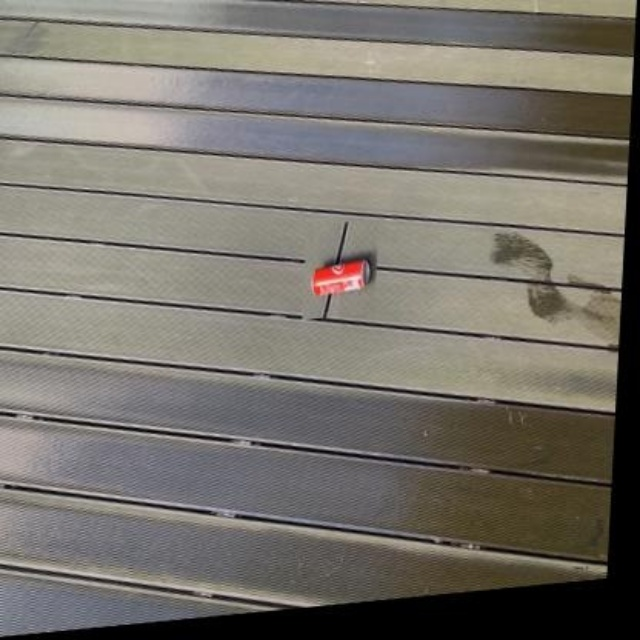trash: (312, 258, 369, 294)
